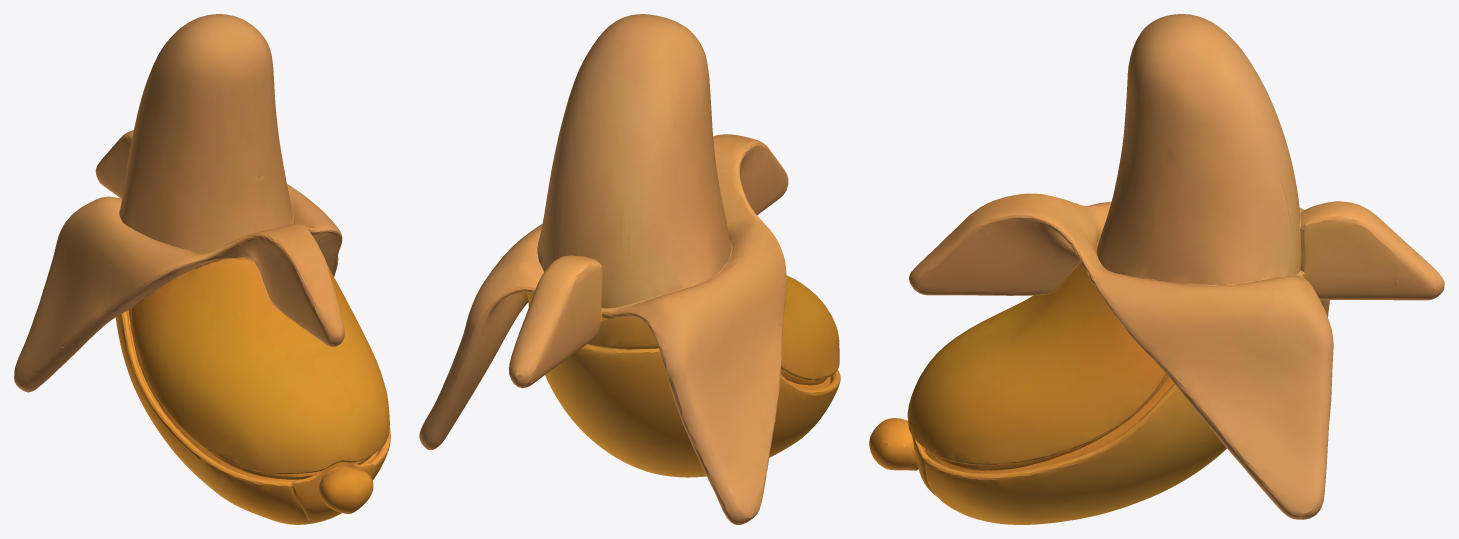
Rendered from banana.glb.
The picture shows the model from 3 angles, left to right: view 1: azimuth 30°, elevation 25°; view 2: azimuth 150°, elevation 25°; view 3: azimuth 270°, elevation 25°; orthographic projection. The views are drawn at different scales.
Visible parts, largest first — view 1: model; view 2: model; view 3: model.
Boxes of the visible parts, left/top/right/bottom form: model: left=14, top=14, right=390, bottom=524; model: left=419, top=14, right=840, bottom=524; model: left=869, top=14, right=1444, bottom=524.
Size of the model in its own units: 0.6682 by 0.9484 by 1.
Materials: 1 (1 with a texture image).
